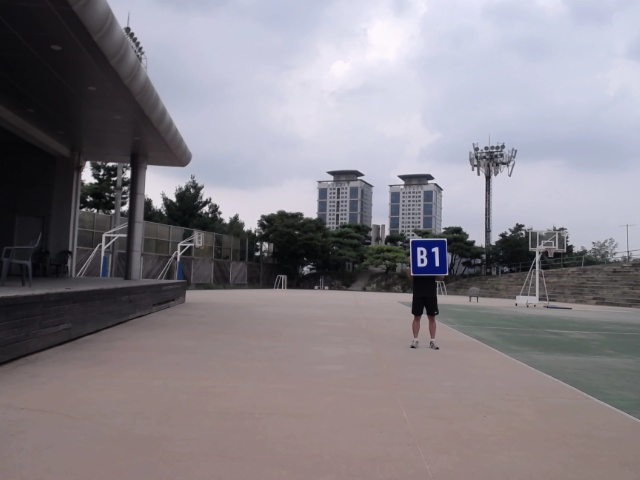delivery_b1: (410, 239, 448, 275)
